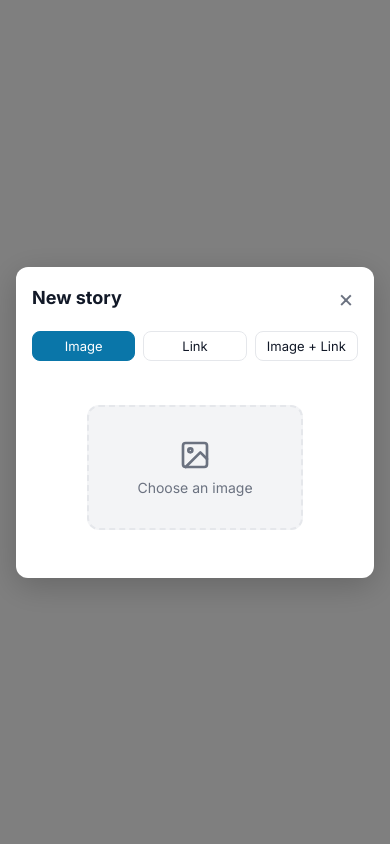
it: StoryCompose › shows link URL input when Link type is selected
Click the button "Link": (195, 346) [143, 330, 247, 360]
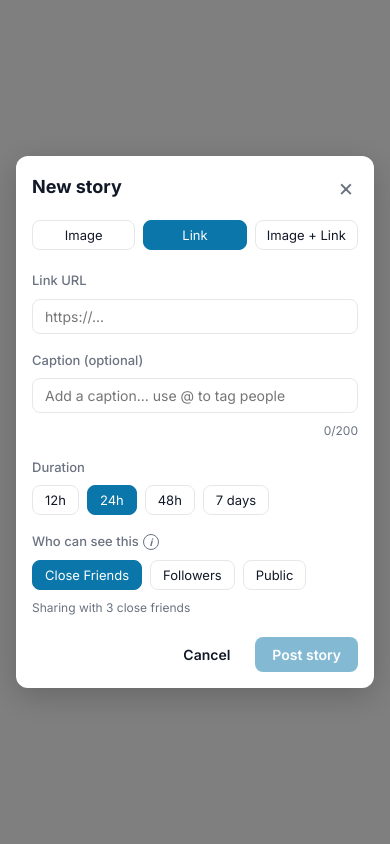
expect the field with placeholder "https://..." is shown: met, box [32, 298, 358, 334]
expect the field with placeholder "Add a caption... use @ to tag people" is shown: met, box [32, 378, 358, 413]
